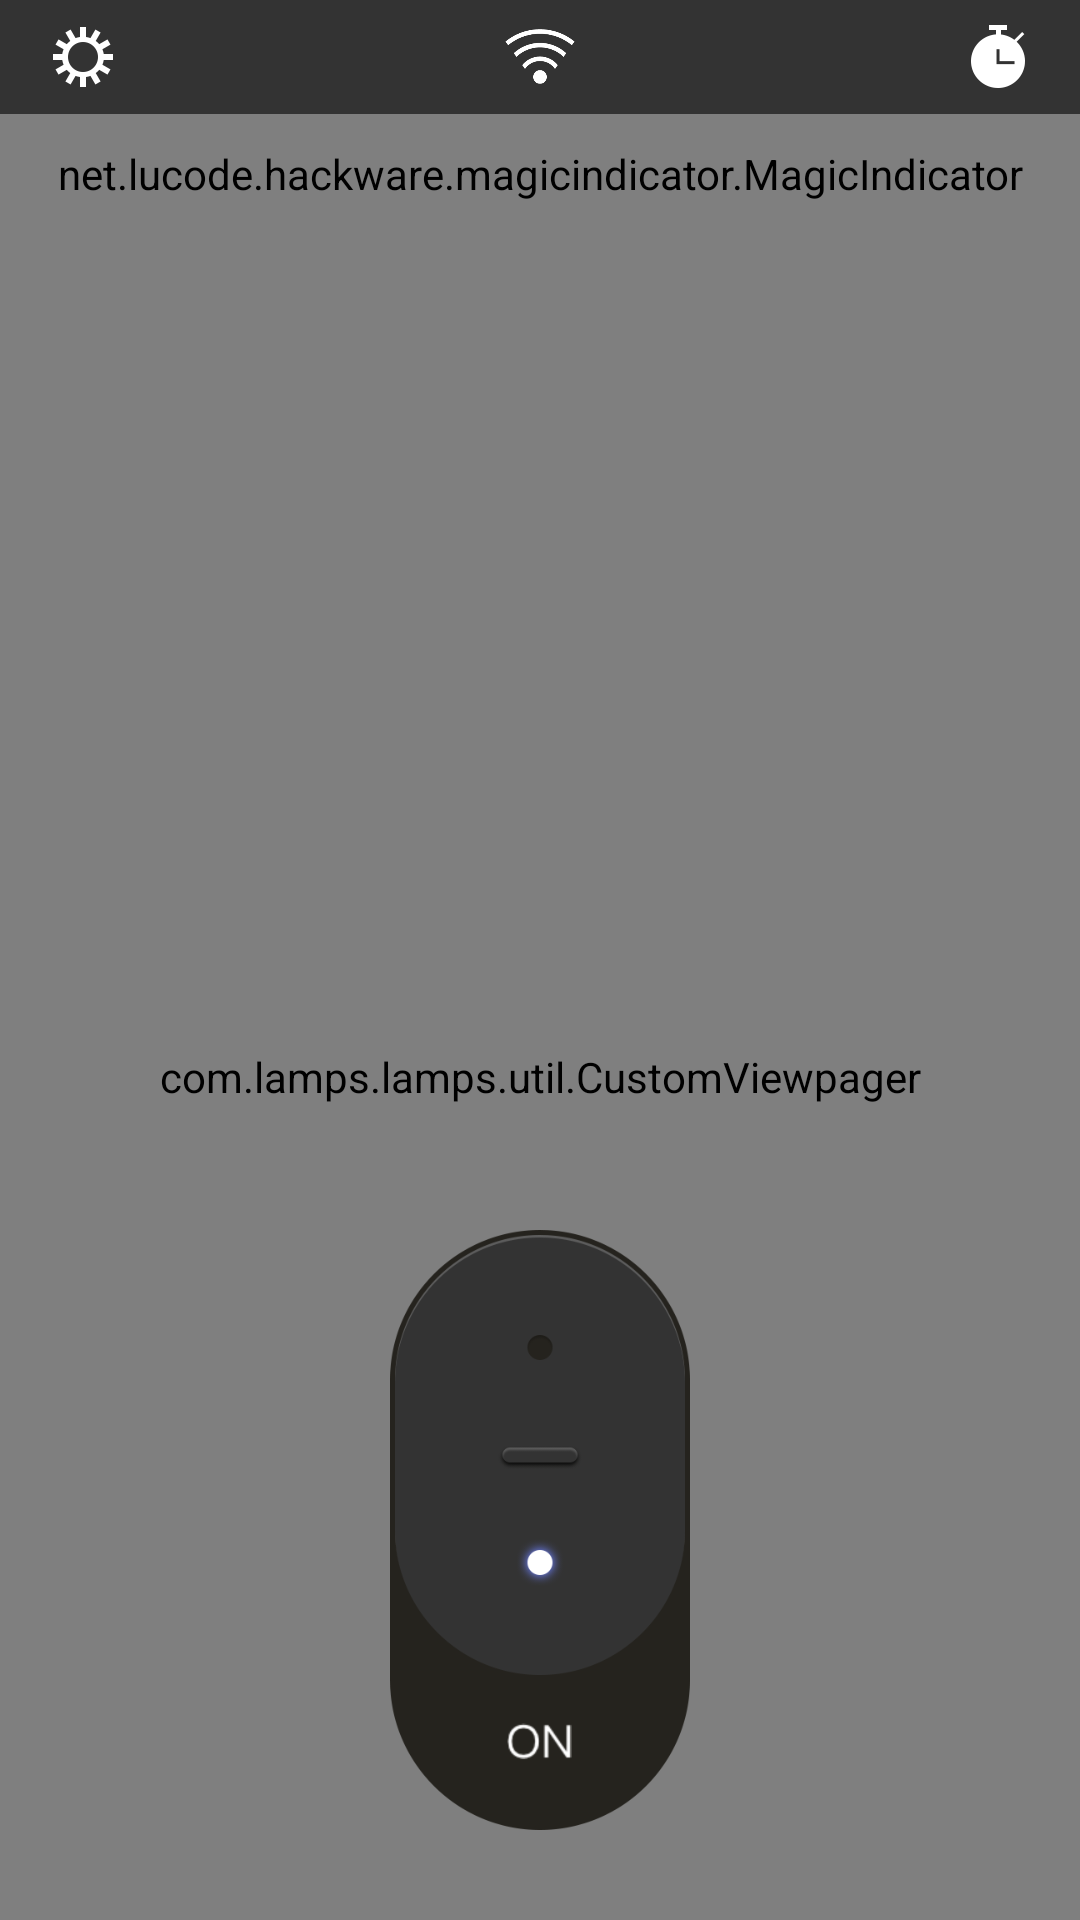

Icons on this 1080px x 1920px Android screen, each with the point to tap as (x=x, y=y):
set time: (x=998, y=56)
setting: (x=83, y=57)
wifi list: (x=540, y=56)
